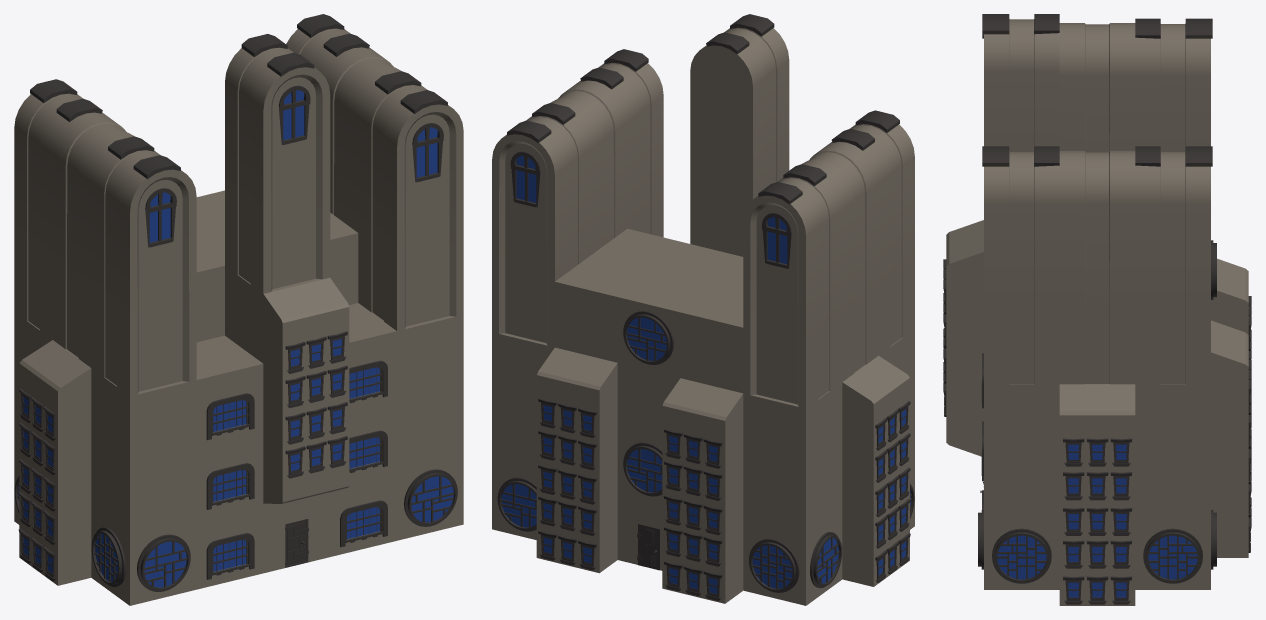
Rendered from Batiment_01.FBX.
3 views of the same model, side by side, from view 1: azimuth 30°, elevation 25°; view 2: azimuth 150°, elevation 25°; view 3: azimuth 270°, elevation 25° (orthographic). The views are drawn at different scales.
Parts seen in each view (by area): view 1: Batiment_01_LOD0; view 2: Batiment_01_LOD0; view 3: Batiment_01_LOD0.
Part boxes in pixels (x1=…): Batiment_01_LOD0: x1=14, y1=14, x2=463, y2=605; Batiment_01_LOD0: x1=492, y1=14, x2=914, y2=605; Batiment_01_LOD0: x1=943, y1=14, x2=1251, y2=605.
Size of the model in its own units: 2429 by 2868 by 1629.
